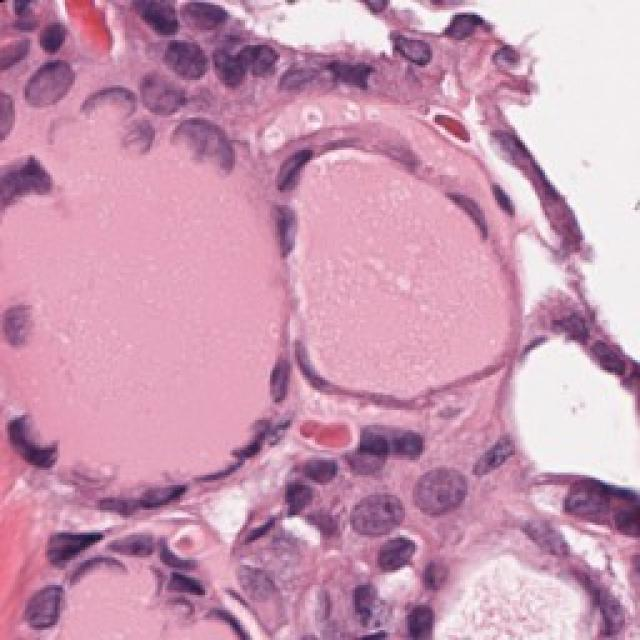abnormal: (0, 5, 85, 130), (160, 96, 247, 212), (335, 480, 425, 575), (396, 442, 481, 533), (148, 12, 228, 103)
